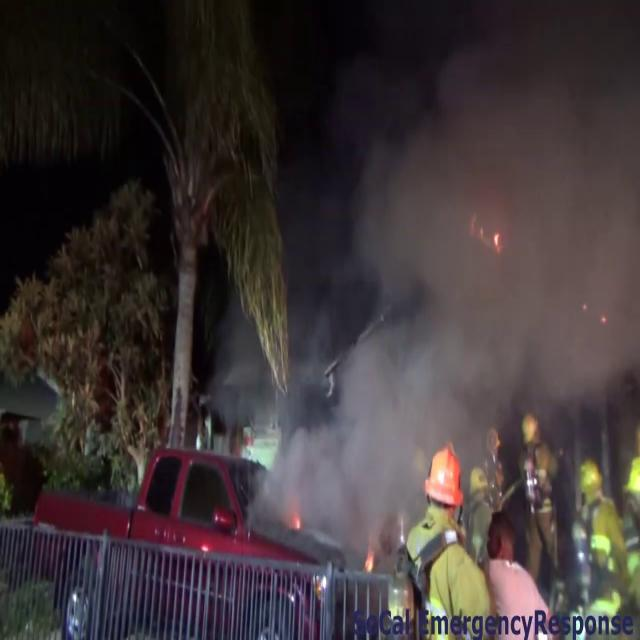Smoke: (258, 2, 640, 525)
